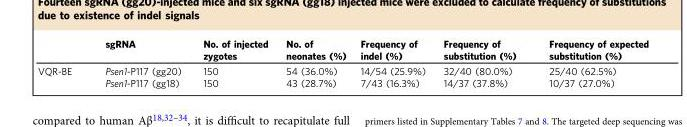table: (36, 37, 648, 88)
table column: (532, 37, 648, 88), (87, 37, 191, 88), (433, 37, 532, 88), (191, 37, 276, 88), (352, 37, 433, 88), (276, 37, 352, 88), (36, 37, 87, 88)
table column header: (36, 37, 648, 62)
table row: (36, 37, 648, 62), (36, 62, 648, 76), (36, 76, 648, 88)
table spanning cell: (36, 62, 87, 88)
